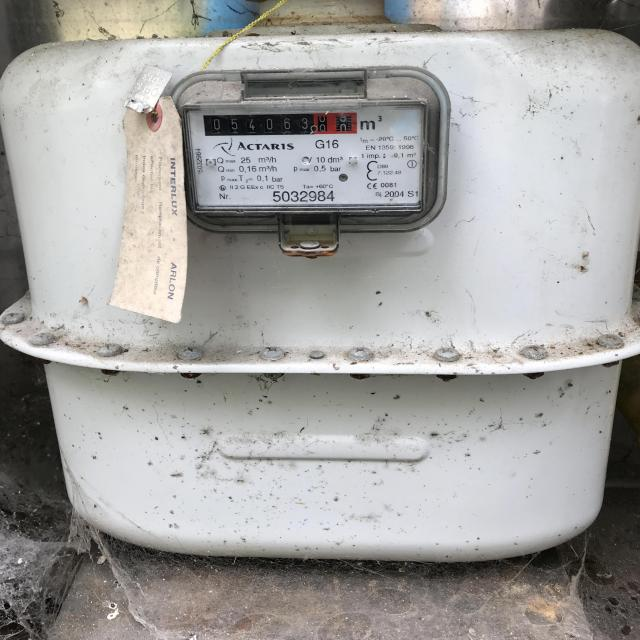gaz_meter: (168, 62, 442, 215)
indication: (203, 113, 357, 136)
